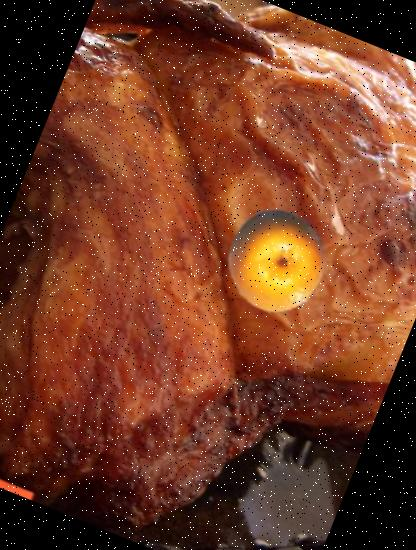Kumquats: (209, 194, 342, 328)
